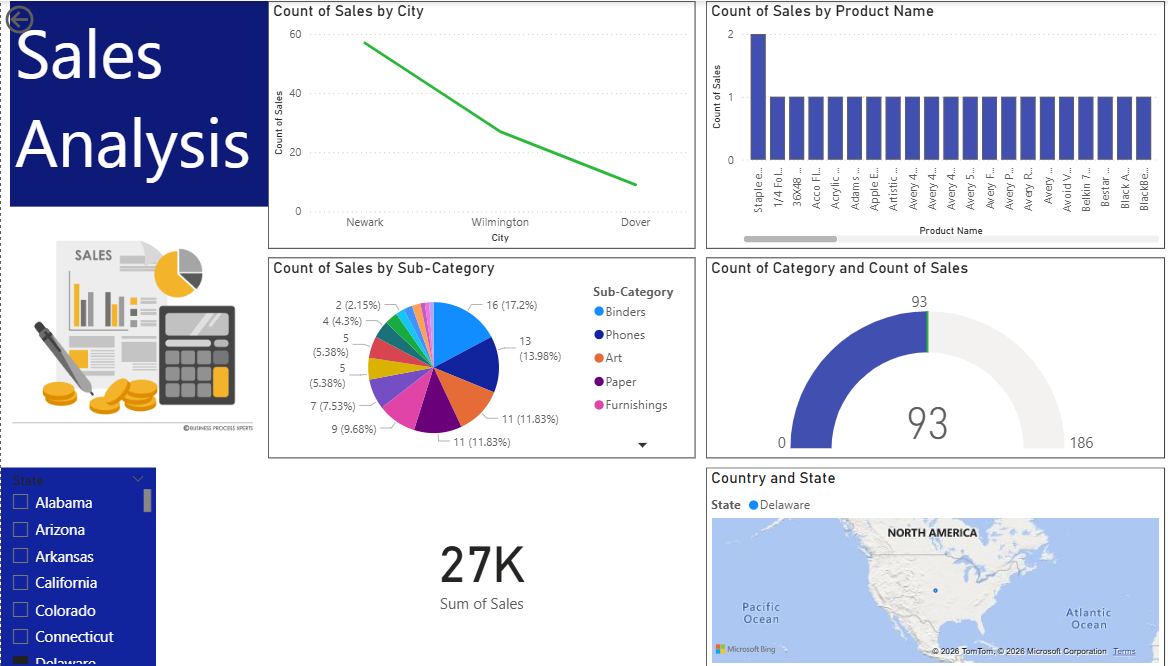

What the dashboard file says about the page in this screenshot:
{"tool":"powerbi","page":{"name":"Page 1","canvas":[1280,720],"ordinal":0},"visuals":[{"type":"textbox","box":[9.7,0,278.5,221.8],"z":0},{"type":"image","box":[0,221.8,288.2,272],"z":1000},{"type":"lineChart","fields":{"Category":["train.City"],"Y":["CountNonNull(train.Sales)"]},"box":[288.2,0,461.5,267.2],"z":2000},{"type":"columnChart","fields":{"Category":["train.Product Name"],"Y":["CountNonNull(train.Sales)"]},"box":[761,0,495.5,267.2],"z":3000},{"type":"pieChart","fields":{"Category":["train.Sub-Category"],"Y":["CountNonNull(train.Sales)"]},"box":[288.2,276.9,461.5,217],"z":4000},{"type":"gauge","fields":{"Y":["CountNonNull(train.Category)"],"TargetValue":["CountNonNull(train.Sales)"]},"box":[761,276.9,495.5,217],"z":5000},{"type":"map","fields":{"Series":["train.State"],"Category":["train.Country"]},"box":[761,503.6,495.5,217],"z":6000},{"type":"slicer","fields":{"Values":["train.State"]},"box":[0,503.6,166.8,217],"z":7000},{"type":"actionButton","box":[0,0,100,40],"z":8000},{"type":"card","fields":{"Values":["Sum(train.Sales)"]},"box":[288,504,461,216],"z":9000}]}

Visuals, with their boxes in screenshot pixels (x1, y1, x2, y2), scaled from the page's 1280x720 canvas onto the 1168x666 screenshot:
textbox: [9,0,263,205]
image: [0,205,263,457]
lineChart - train.City x CountNonNull(train.Sales): [263,0,684,247]
columnChart - train.Product Name x CountNonNull(train.Sales): [694,0,1147,247]
pieChart - train.Sub-Category x CountNonNull(train.Sales): [263,256,684,457]
gauge - CountNonNull(train.Category) x CountNonNull(train.Sales): [694,256,1147,457]
map - train.State x train.Country: [694,466,1147,665]
slicer - train.State: [0,466,152,665]
actionButton: [0,0,91,37]
card - Sum(train.Sales): [263,466,683,665]
